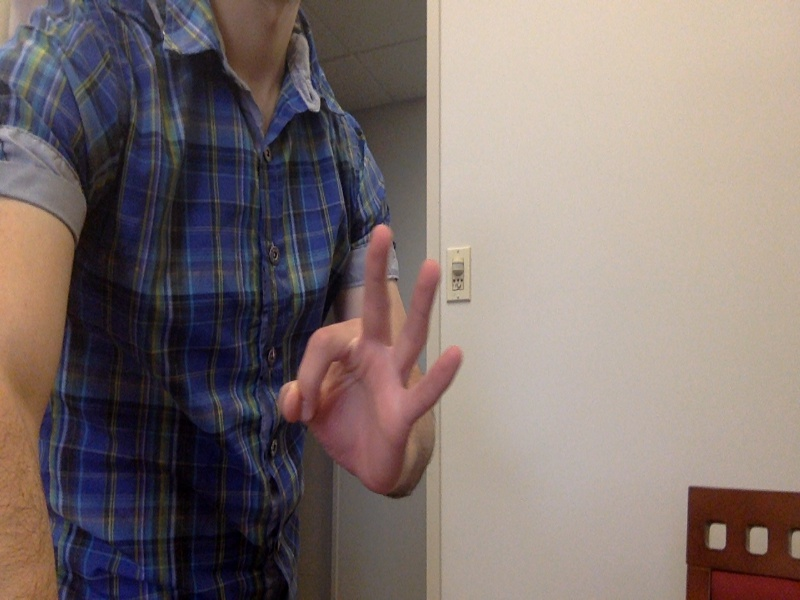3-hand: (292, 222, 462, 502)
